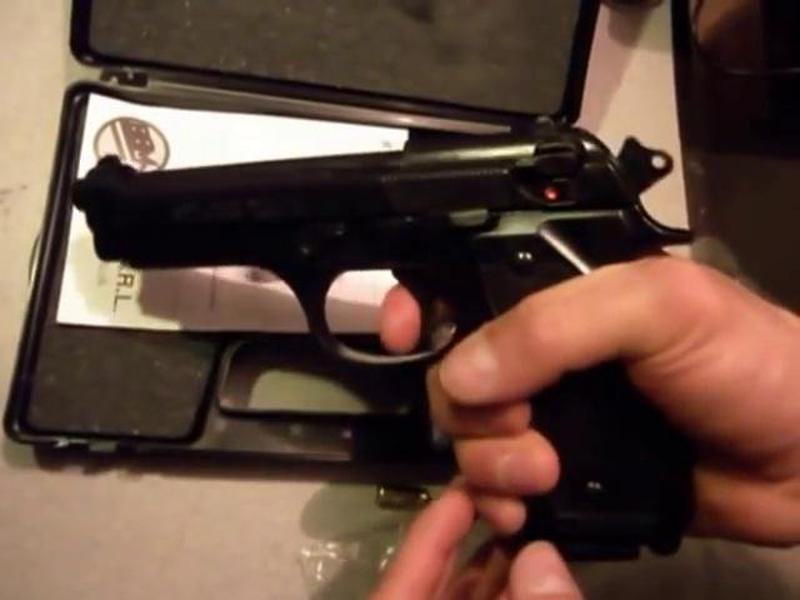Pistola: (67, 126, 748, 597)
